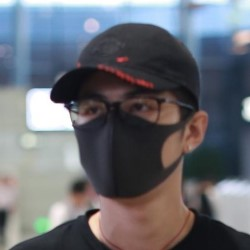mask: (65, 105, 178, 202)
